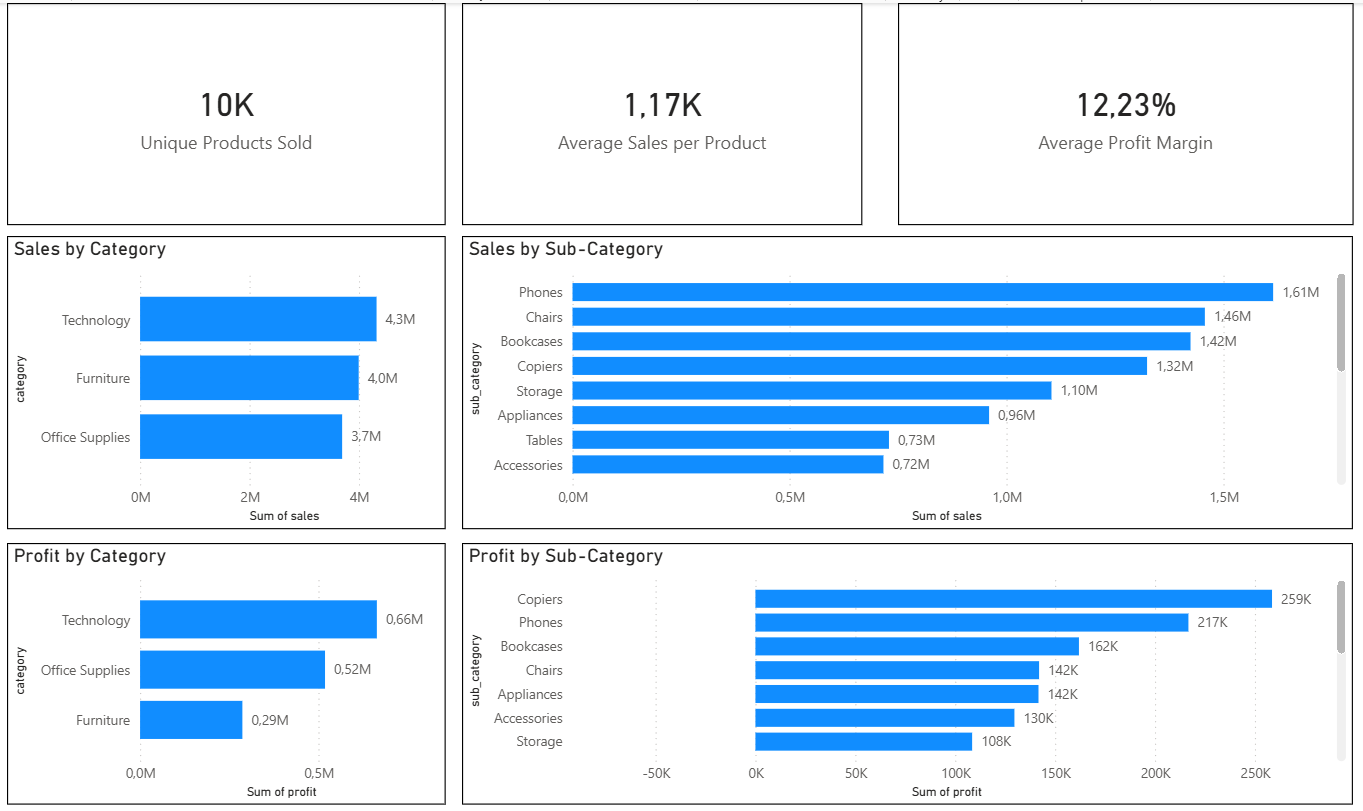

The dashboard page shown, as its layout file describes it:
{"tool":"powerbi","page":{"name":"Product & Category Analysis","canvas":[1280,720],"ordinal":1},"visuals":[{"type":"clusteredBarChart","title":"Sales by Category","fields":{"Category":["SuperStoreOrders.category"],"Y":["Sum(SuperStoreOrders.sales)"]},"box":[31.1,206.2,389.1,259.7],"z":0},{"type":"clusteredBarChart","title":"Profit by Category","fields":{"Y":["Sum(SuperStoreOrders.profit)"],"Category":["SuperStoreOrders.category"]},"box":[31.1,478.5,389.1,232.5],"z":1000},{"type":"clusteredBarChart","title":"Sales by Sub-Category","fields":{"Category":["SuperStoreOrders.sub_category"],"Y":["Sum(SuperStoreOrders.sales)"]},"box":[434.8,206.2,789.8,259.7],"z":2000},{"type":"clusteredBarChart","title":"Profit by Sub-Category","fields":{"Category":["SuperStoreOrders.sub_category"],"Y":["Sum(SuperStoreOrders.profit)"]},"box":[434.8,478.5,789.8,232.5],"z":3000},{"type":"card","fields":{"Values":["SuperStoreOrders.Unique Products Sold"]},"box":[31.1,0,389.1,197.4],"z":4000},{"type":"card","fields":{"Values":["SuperStoreOrders.Avg Sales per Product"]},"box":[434.8,0,355,197.4],"z":5000},{"type":"card","fields":{"Values":["SuperStoreOrders.Avg Profit Margin"]},"box":[820.9,0,403.6,197.4],"z":6000}]}

Visuals, with their boxes in screenshot pixels (x1, y1, x2, y2):
"Sales by Category" clusteredBarChart: l=3, t=233, r=442, b=526
"Profit by Category" clusteredBarChart: l=3, t=540, r=442, b=803
"Sales by Sub-Category" clusteredBarChart: l=459, t=233, r=1350, b=526
"Profit by Sub-Category" clusteredBarChart: l=459, t=540, r=1350, b=803
card - SuperStoreOrders.Unique Products Sold: l=3, t=0, r=442, b=223
card - SuperStoreOrders.Avg Sales per Product: l=459, t=0, r=860, b=223
card - SuperStoreOrders.Avg Profit Margin: l=895, t=0, r=1350, b=223
